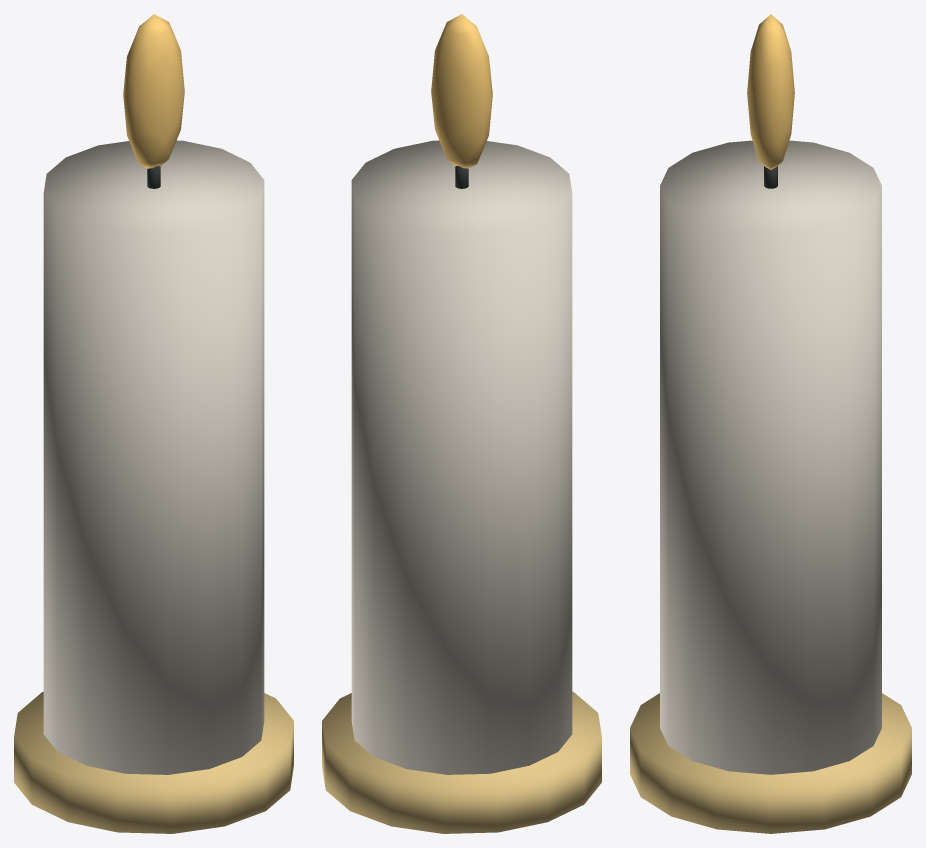
Rendered from candle-single.glb.
The picture shows the model from 3 angles, left to right: view 1: azimuth 30°, elevation 25°; view 2: azimuth 150°, elevation 25°; view 3: azimuth 270°, elevation 25°; orthographic projection.
Parts seen in each view (by area): view 1: wax-0, base-1, flame-3; view 2: wax-0, base-1, flame-3; view 3: wax-0, base-1, flame-3.
Boxes of the visible parts, bbox=[...] form: wax-0: bbox=[43, 140, 264, 774]; base-1: bbox=[14, 691, 293, 833]; flame-3: bbox=[123, 14, 184, 168]; wax-0: bbox=[351, 140, 572, 774]; base-1: bbox=[322, 691, 601, 833]; flame-3: bbox=[431, 14, 492, 168]; wax-0: bbox=[660, 140, 881, 774]; base-1: bbox=[630, 693, 911, 833]; flame-3: bbox=[747, 14, 794, 169].
Bounding box in the file's own units: 0.33 × 0.982 × 0.33.
